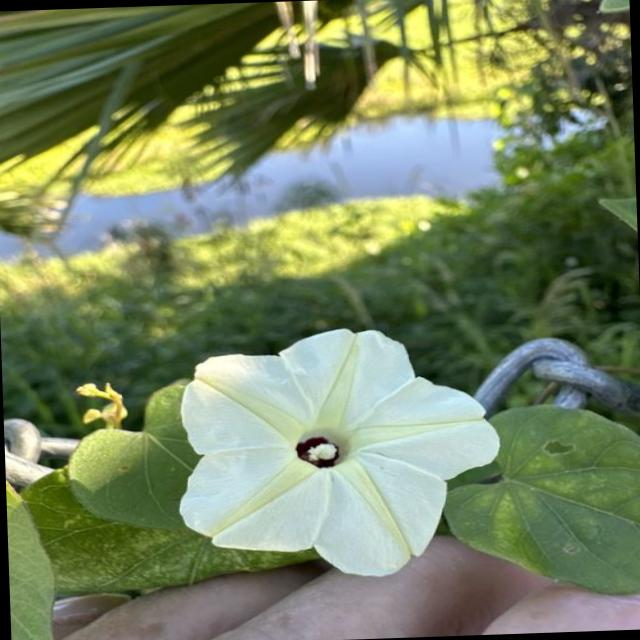ipomoea: (168, 320, 507, 586)
